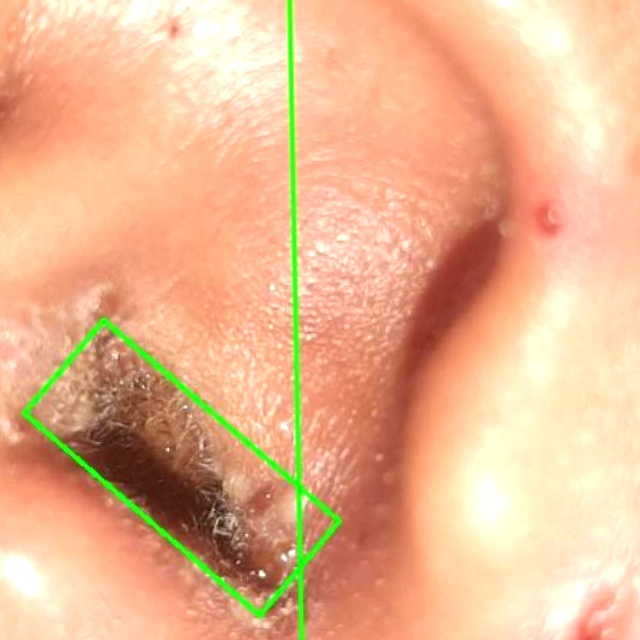Contact Dermatitis: (289, 0, 639, 639), (23, 320, 338, 615)
